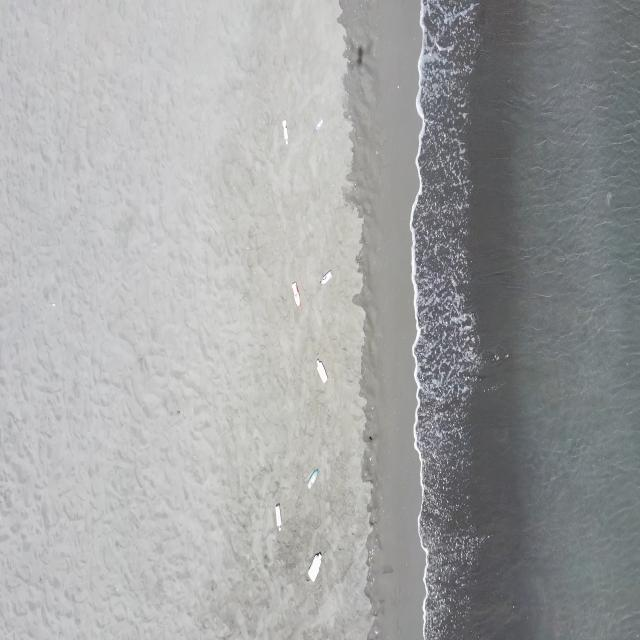plastic-bottle: (309, 551, 324, 583), (316, 358, 328, 384), (292, 281, 301, 309), (308, 467, 320, 486), (320, 270, 334, 286), (276, 502, 284, 529), (282, 118, 290, 144), (313, 116, 325, 133)
